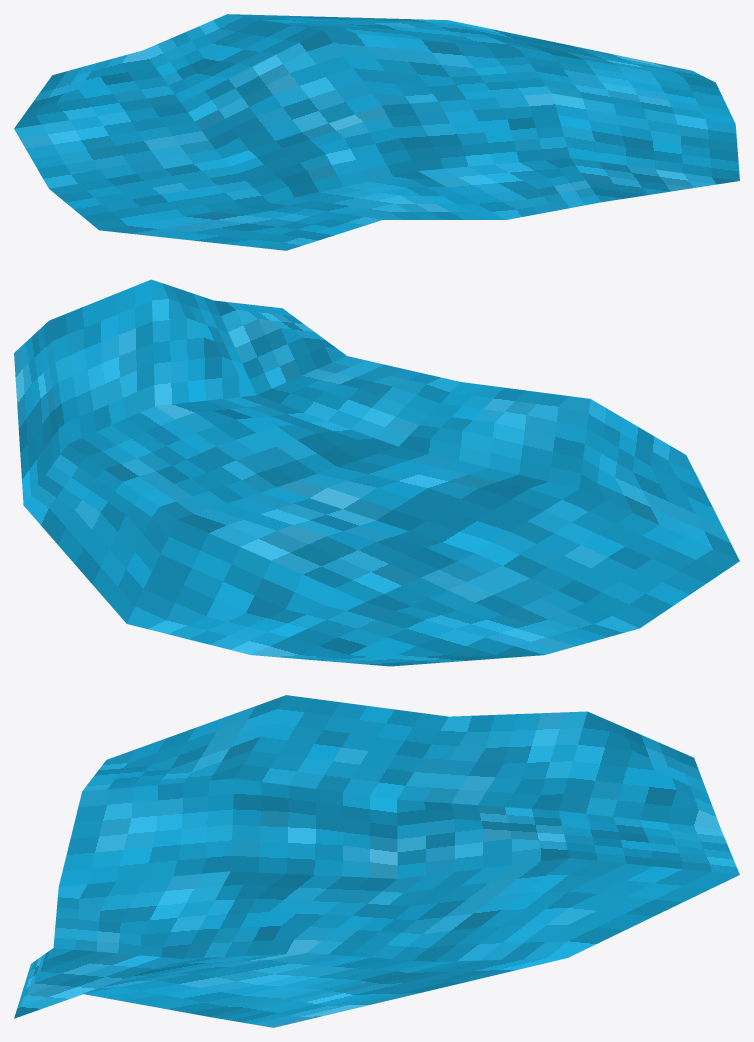
Rendered from WaterPlane.gltf.
The picture shows the model from 3 angles, top to bottom: view 1: azimuth 30°, elevation 25°; view 2: azimuth 150°, elevation 25°; view 3: azimuth 270°, elevation 25°; orthographic projection. The views are drawn at different scales.
Parts seen in each view (by area): view 1: WaterPlane; view 2: WaterPlane; view 3: WaterPlane.
Boxes of the visible parts, bbox=[...] form: WaterPlane: bbox=[14, 14, 739, 250]; WaterPlane: bbox=[14, 279, 739, 666]; WaterPlane: bbox=[14, 695, 739, 1027].
Bounding box in the file's own units: 6.46 × 0.4626 × 5.54.
Materials: 1 (1 with a texture image).
